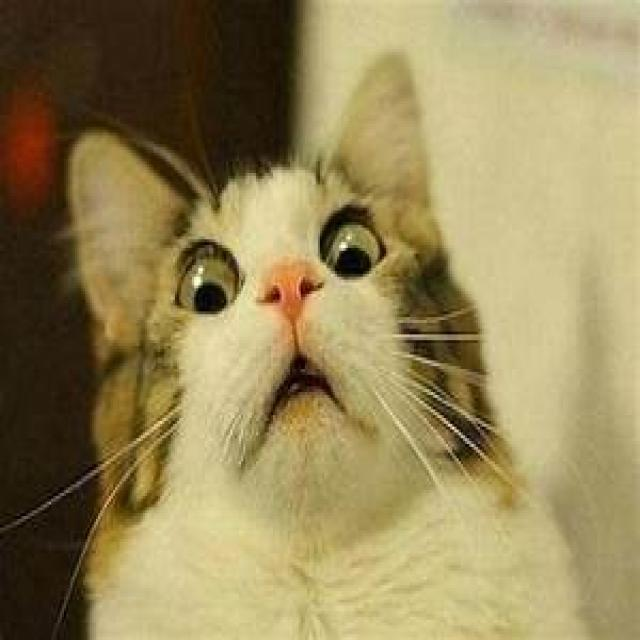KEDI: (57, 45, 602, 640)
